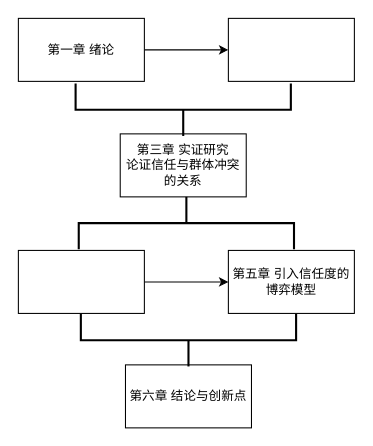
This 373x446 diagram has some shape labels left out. Here are the shapes that lost their labels. From the top down, the box of each, then its label:
(227, 17, 354, 81): 第二章 文献综述
(17, 249, 144, 313): 第四章 未引入信任度的博弈模型
